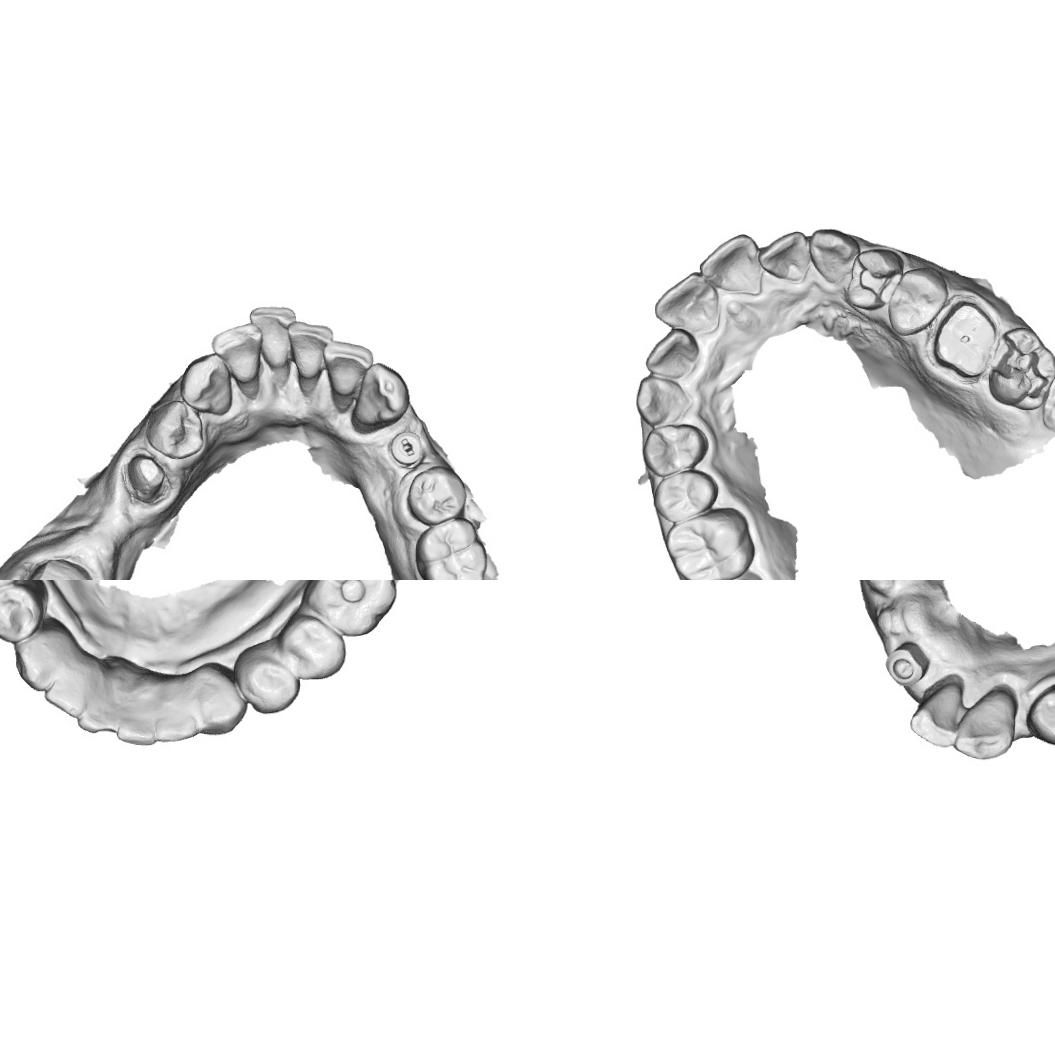canine: (953, 691, 1017, 761), (352, 360, 410, 432), (178, 350, 234, 418), (9, 634, 68, 693), (634, 374, 694, 428), (807, 227, 862, 285), (198, 680, 248, 736)
crown: (924, 294, 1001, 386), (124, 450, 169, 506), (17, 554, 98, 580)
implant: (883, 639, 928, 688)
implant_minus: (387, 426, 424, 468)
incisor: (652, 270, 721, 334), (697, 231, 763, 296), (906, 680, 966, 750), (210, 321, 262, 385), (756, 228, 812, 285), (322, 337, 374, 398), (248, 304, 296, 370), (643, 326, 701, 380), (288, 315, 334, 380), (42, 674, 92, 722), (153, 698, 204, 744), (114, 702, 158, 748), (72, 698, 122, 738)
inlay: (992, 332, 1050, 402), (856, 260, 902, 306)
molar: (663, 505, 757, 580), (302, 580, 400, 639), (413, 515, 488, 580)
premolar: (276, 613, 348, 683), (887, 266, 948, 336), (236, 653, 301, 716), (640, 422, 712, 478), (405, 464, 470, 526), (145, 400, 207, 461), (652, 469, 720, 524), (0, 580, 44, 645), (1027, 678, 1055, 748)
